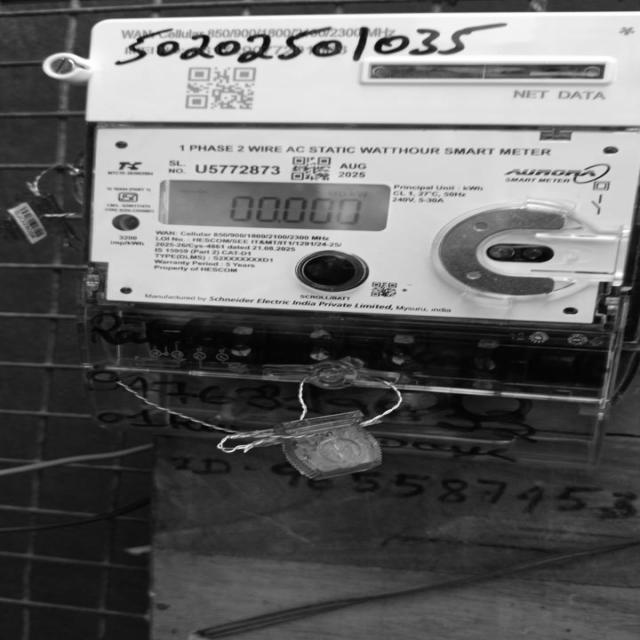meter: (95, 20, 638, 321)
